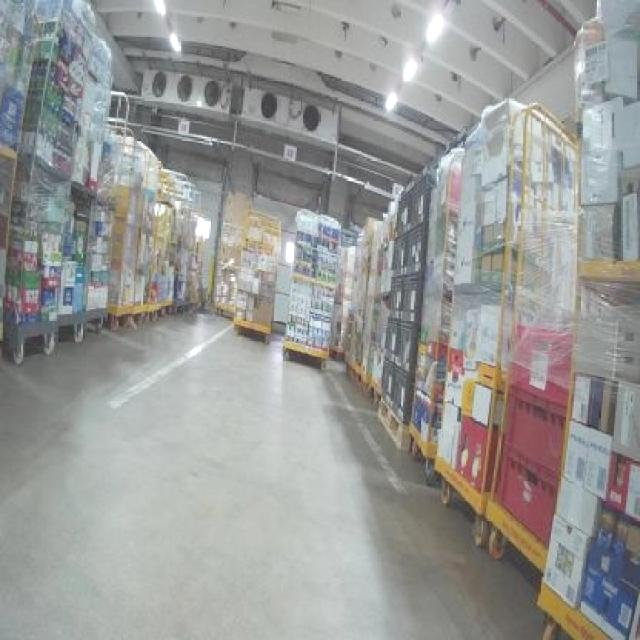pallets: (283, 208, 337, 357), (232, 209, 277, 340)
